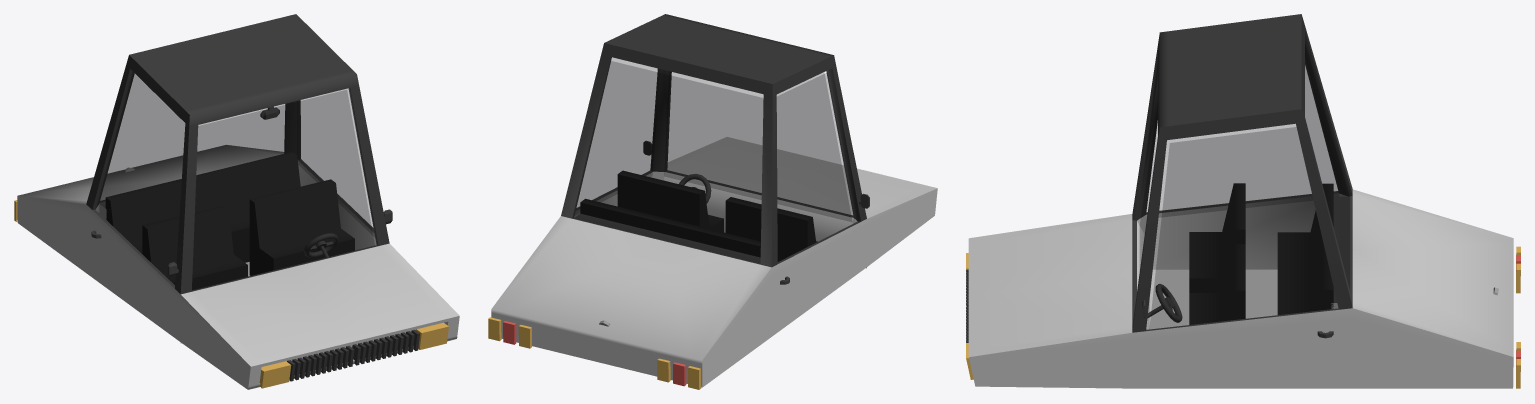
Rendered from car.FBX.
3 renders of one model, left to right at view 1: azimuth 30°, elevation 25°; view 2: azimuth 150°, elevation 25°; view 3: azimuth 270°, elevation 25°, orthographic. The views are drawn at different scales.
Visible parts, largest first — view 1: car; view 2: car, 2; view 3: car.
Part boxes in pixels (x1,y1,x2,y2): car: [14, 14, 459, 389]; car: [488, 14, 937, 389]; 2: [503, 321, 686, 386]; car: [966, 14, 1520, 388].
Bounding box in the file's own units: 55.98 × 55.19 × 103.
